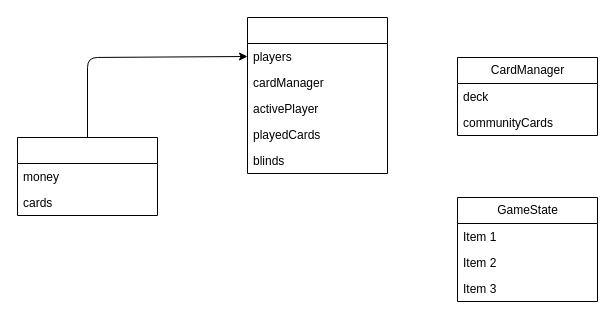
This 615x322 diagram has some shape labels left out. Each missing label, with the box of its shape:
Player: (16, 136, 158, 216)
PokerGame: (246, 16, 388, 174)
